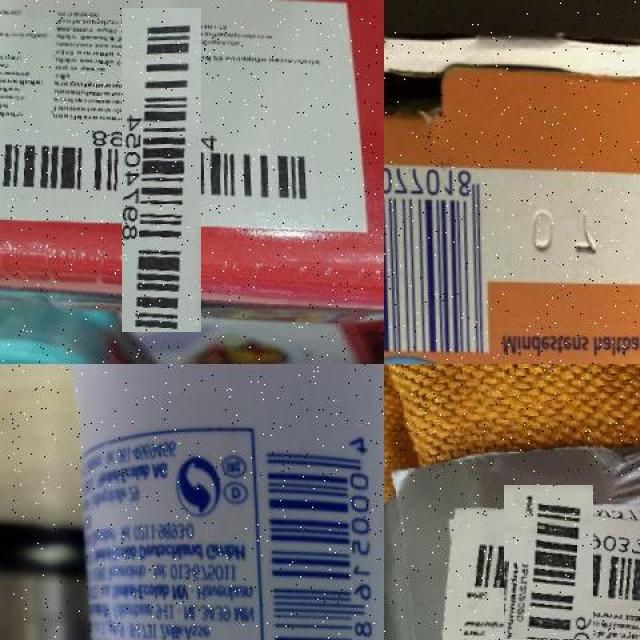Barcode: (61, 70, 263, 272), (256, 418, 384, 640), (384, 159, 496, 357), (480, 508, 617, 640)
